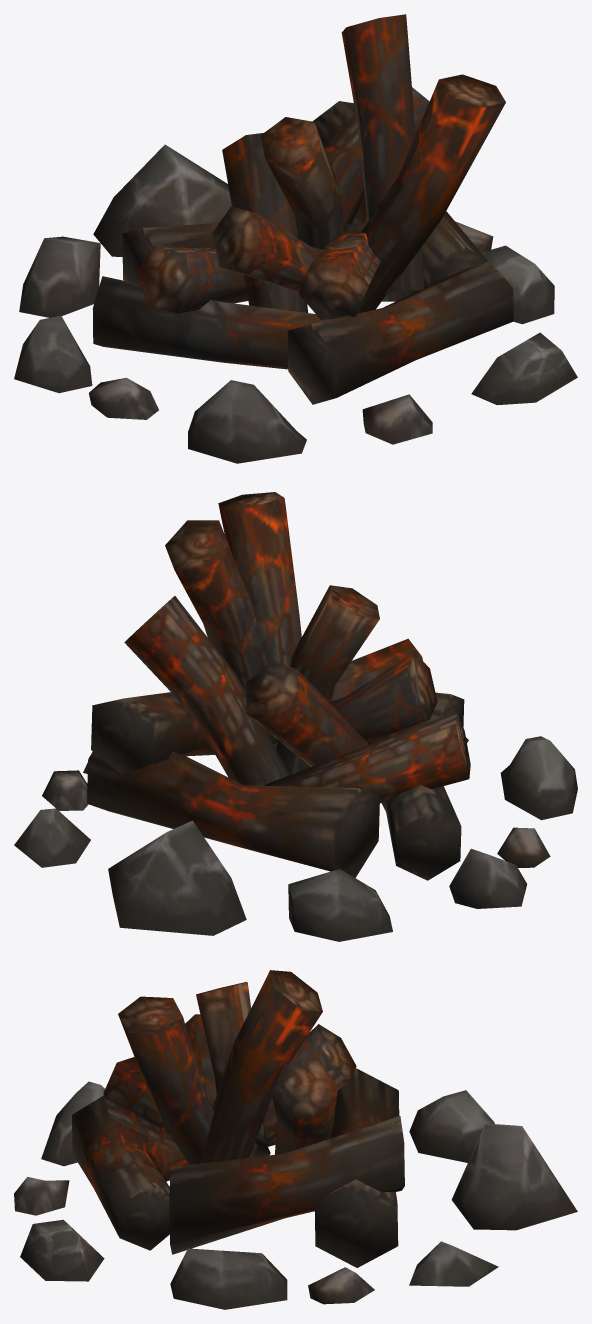
Rendered from environment_common_gouhuo_001_a.FBX.
3 renders of one model, top to bottom at view 1: azimuth 30°, elevation 25°; view 2: azimuth 150°, elevation 25°; view 3: azimuth 270°, elevation 25°, orthographic. The views are drawn at different scales.
Parts seen in each view (by area): view 1: environment_common_gouhuo_001_a; view 2: environment_common_gouhuo_001_a; view 3: environment_common_gouhuo_001_a.
Part boxes in pixels (bbox=[...]): environment_common_gouhuo_001_a: bbox=[14, 14, 577, 463]; environment_common_gouhuo_001_a: bbox=[14, 492, 577, 941]; environment_common_gouhuo_001_a: bbox=[14, 970, 577, 1309].
Size of the model in its own units: 166 by 96.64 by 175.
